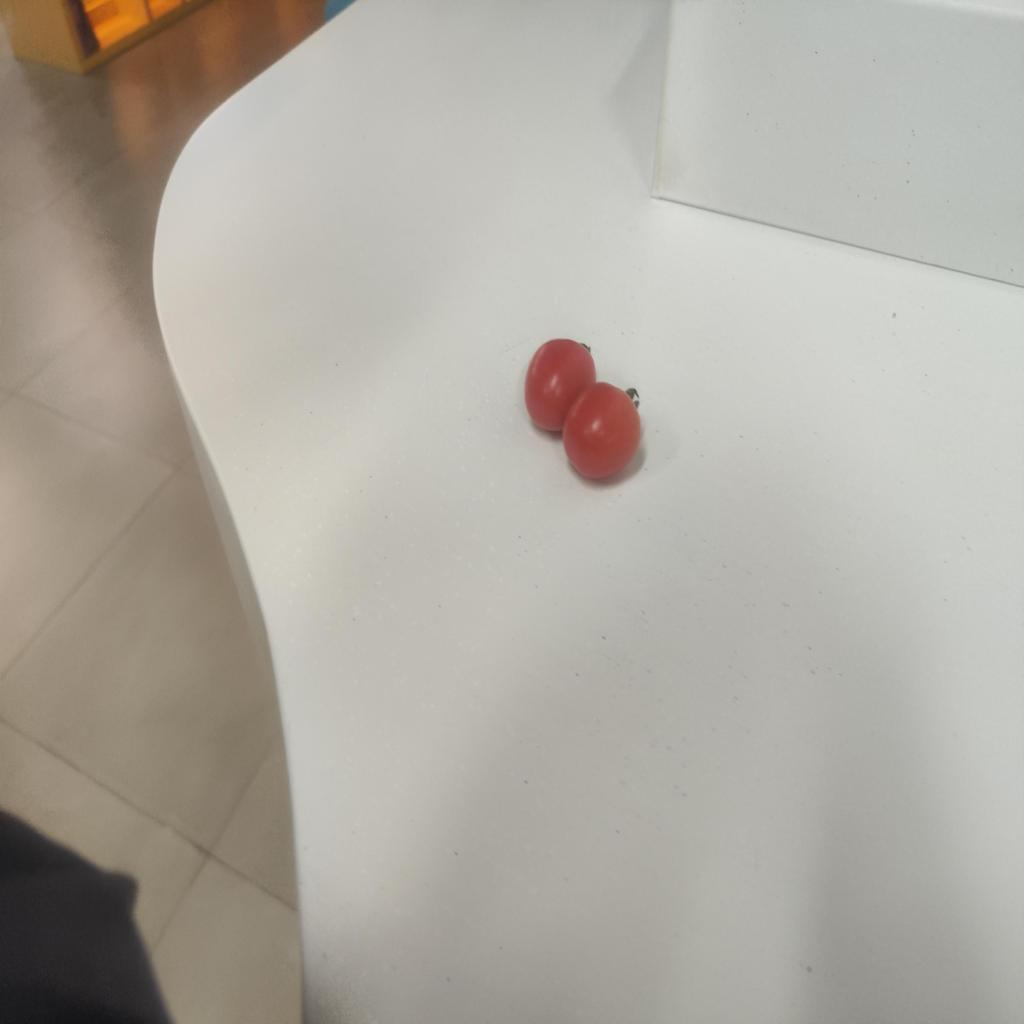tomato: (560, 384, 647, 483), (527, 337, 602, 431)
